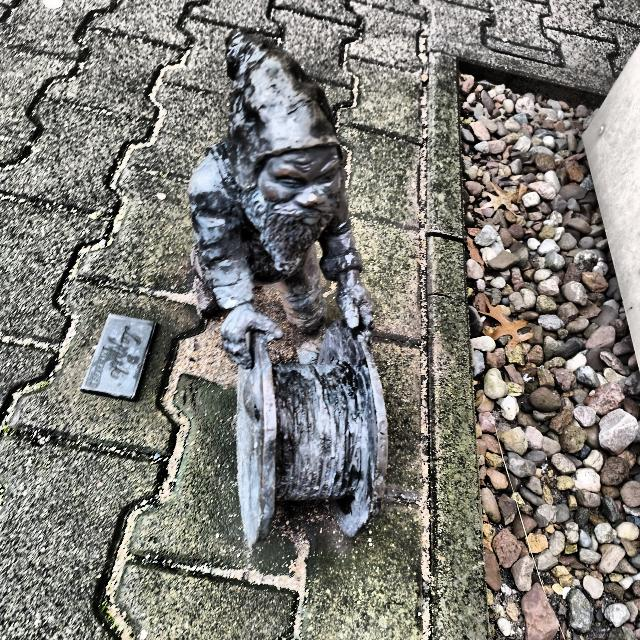Lappek: (188, 30, 388, 549)
